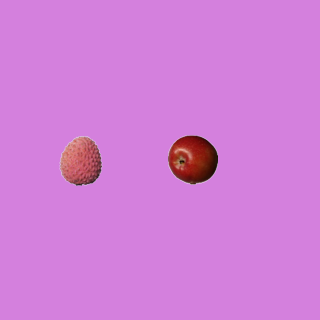Apple Braeburn: (167, 134, 217, 184)
Lychee: (55, 135, 105, 185)
